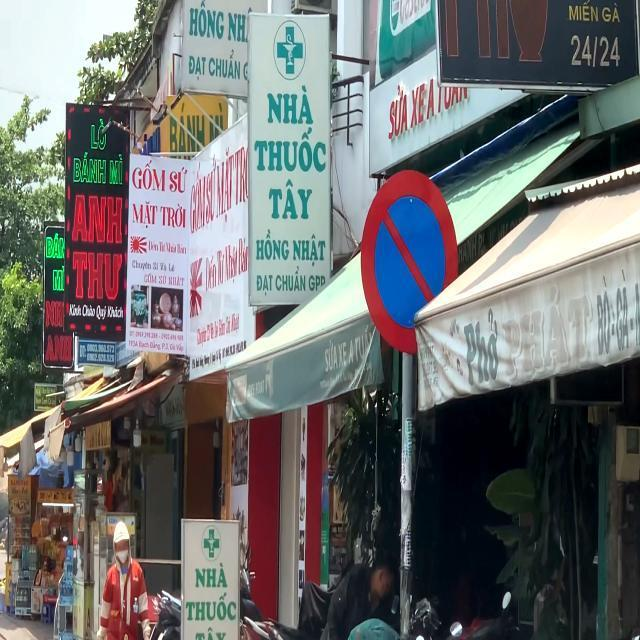131a-cam-do-xe: (362, 168, 458, 352)
